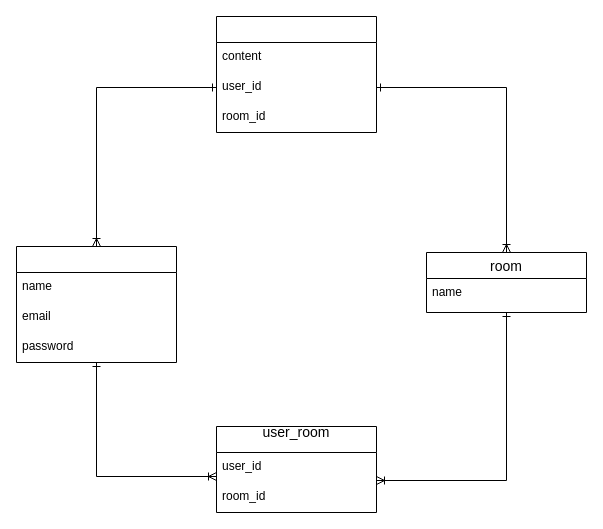
The diagram is 603 pixels wide and 529 high, and some of its shapes have lost their labels. The shapes that lost their labels are listed below. From the top down, each one's box as (x1, y1, x2, y2) in pixels, then its label:
(216, 16, 376, 132): message
(16, 246, 176, 362): user
